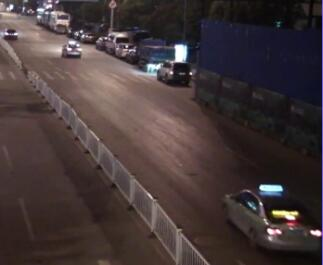bus: (42, 9, 72, 31), (35, 6, 48, 24)
car: (225, 182, 320, 253), (136, 36, 174, 72), (155, 59, 192, 84), (104, 30, 135, 52), (60, 38, 83, 59), (114, 40, 134, 57), (81, 30, 96, 44), (4, 26, 18, 39), (95, 35, 107, 47), (74, 30, 81, 37)
